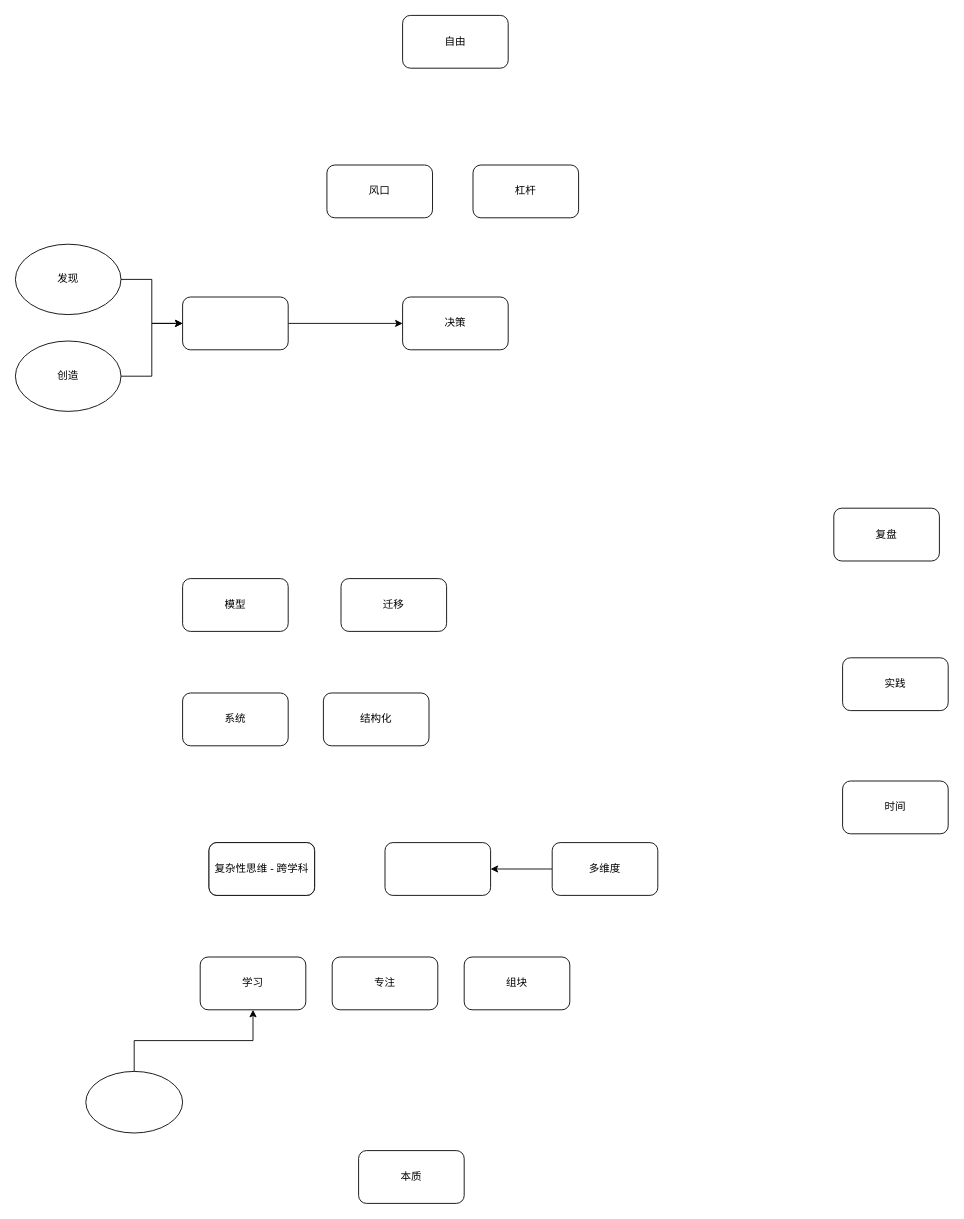
This 964x1219 diagram has some shape labels left out. Here are the shapes that lost their labels. From the top down, the box of each, then its label:
(182, 296, 288, 350): 机遇
(384, 842, 491, 895): 反证
(85, 1071, 183, 1133): 兴趣
